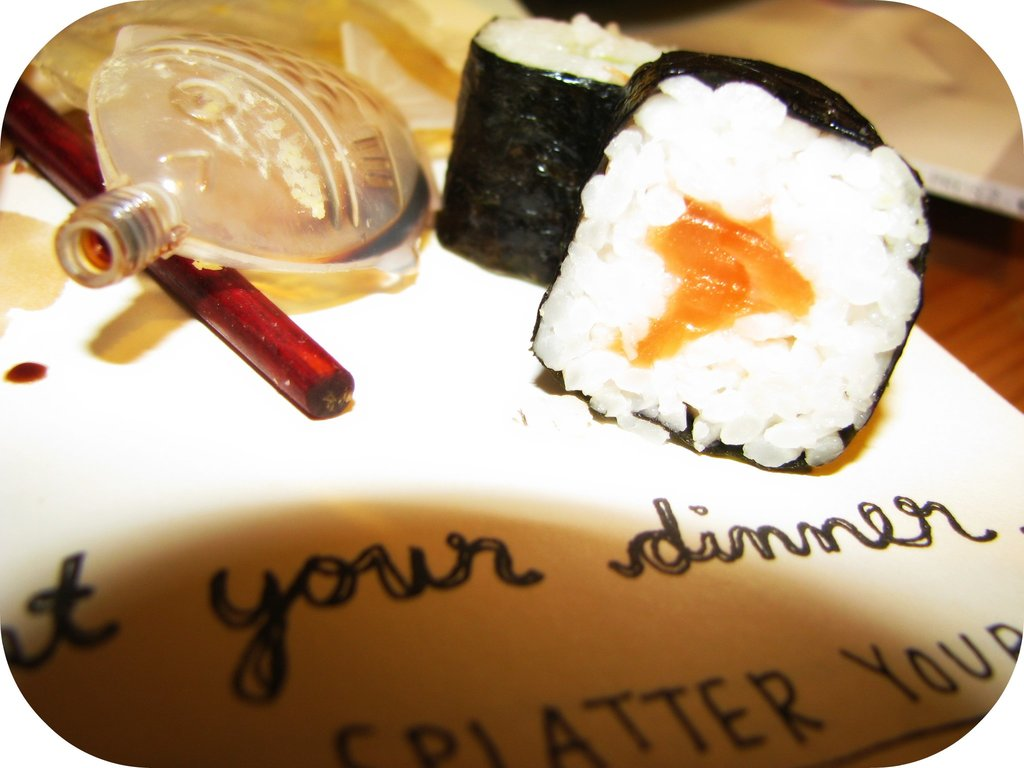sushi: (536, 51, 934, 488), (437, 12, 665, 289)
